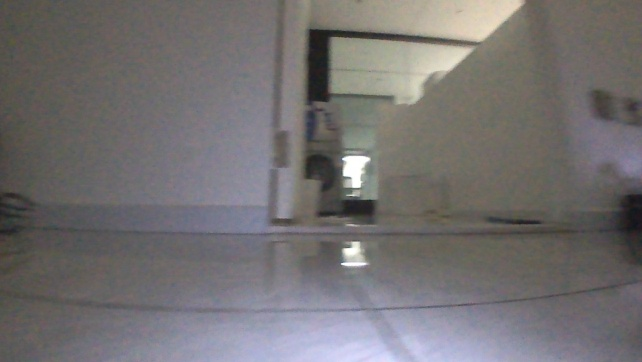toilet: (376, 165, 446, 220)
trash_can: (293, 175, 323, 220)
washing_machine: (305, 137, 347, 216)
